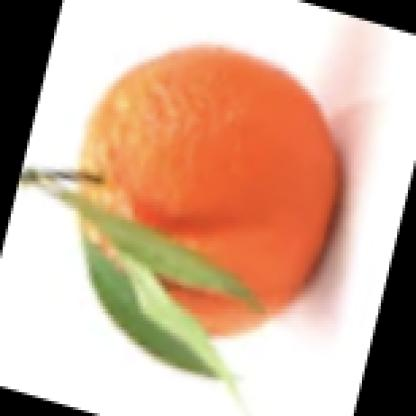fresh: (62, 46, 340, 354)
